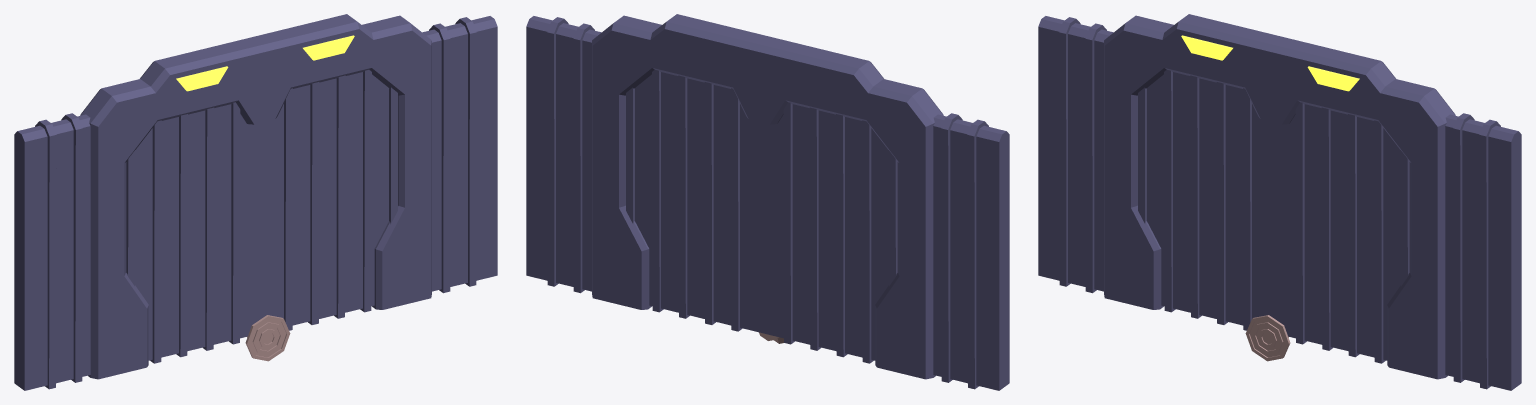
The model's file is AlienLaserGate.fbx.
3 renders of one model, left to right at view 1: azimuth 30°, elevation 25°; view 2: azimuth 150°, elevation 25°; view 3: azimuth 330°, elevation 25°, orthographic.
Parts seen in each view (by area): view 1: LaserGateExtensionL, LaserGateExtensionR, LaserGate, Plunger; view 2: LaserGateExtensionL, LaserGateExtensionR, LaserGate; view 3: LaserGateExtensionR, LaserGateExtensionL, LaserGate, Plunger.
Part boxes in pixels (box(x1,y1,x2,y2)): LaserGateExtensionL: box(14, 102, 261, 390); LaserGateExtensionR: box(261, 16, 497, 330); LaserGate: box(80, 14, 431, 379); Plunger: box(245, 315, 290, 361); LaserGateExtensionL: box(762, 102, 1009, 390); LaserGateExtensionR: box(526, 16, 762, 332); LaserGate: box(592, 14, 943, 379); LaserGateExtensionR: box(1274, 102, 1521, 390); LaserGateExtensionL: box(1038, 16, 1274, 330); LaserGate: box(1104, 14, 1455, 379); Plunger: box(1245, 315, 1290, 361).
Bounding box in the file's own units: 3125 × 1962 × 245.
